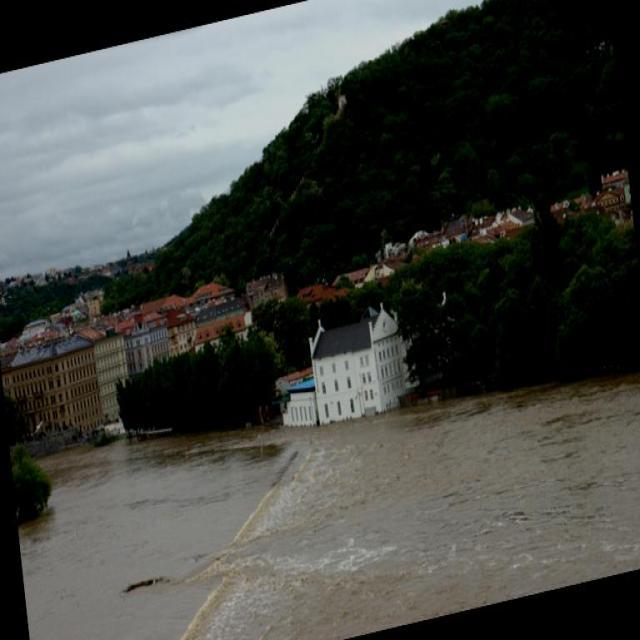flood: (10, 304, 639, 639)
